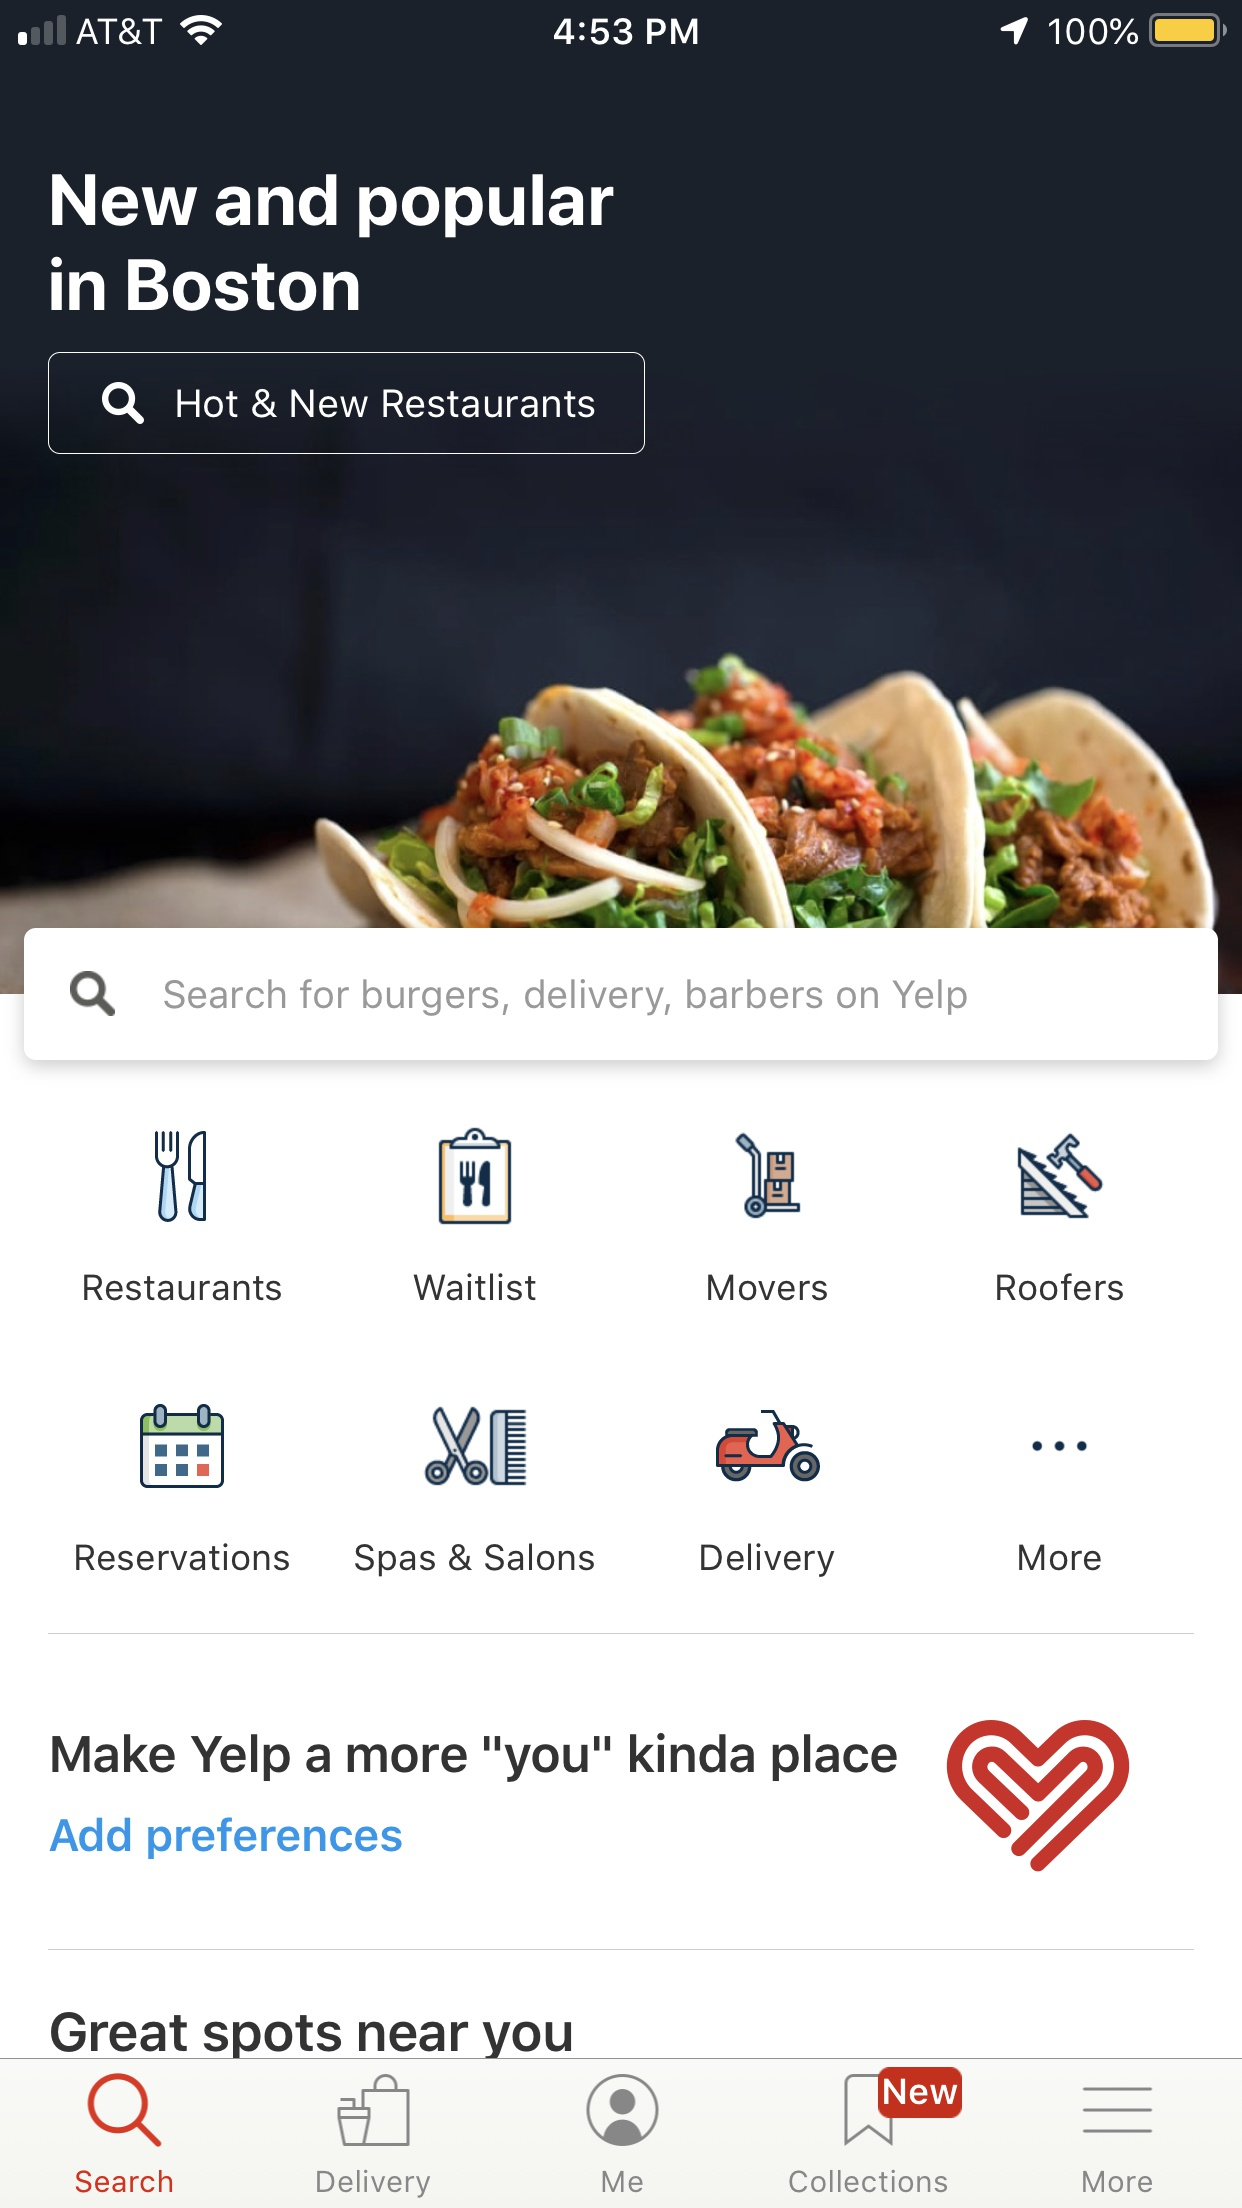EditText: (24, 927, 1219, 1062), (47, 350, 646, 455)
Icon: (843, 2065, 963, 2147), (140, 1403, 226, 1489), (438, 1127, 513, 1225), (86, 2072, 162, 2147), (337, 2073, 412, 2147), (585, 2073, 660, 2146), (1081, 2087, 1153, 2135), (70, 971, 117, 1018), (102, 381, 146, 426), (1033, 1441, 1087, 1453)
Image: (2, 2, 1242, 993), (946, 1720, 1130, 1873), (425, 1404, 528, 1488), (714, 1409, 822, 1485), (1018, 1133, 1104, 1219), (735, 1131, 802, 1219), (153, 1130, 208, 1222)
Text: (50, 171, 616, 312), (52, 1732, 898, 1782), (164, 980, 968, 1018), (52, 2011, 572, 2059), (50, 1817, 403, 1861), (355, 1541, 596, 1579), (76, 1542, 291, 1573), (83, 1274, 282, 1303), (701, 1541, 836, 1579), (789, 2169, 948, 2194), (412, 1271, 538, 1303), (996, 1272, 1124, 1303), (707, 1272, 828, 1303), (317, 2169, 432, 2199), (74, 2169, 174, 2194), (1018, 1544, 1102, 1573), (1081, 2169, 1153, 2193), (601, 2170, 645, 2193)
UpperTaskBar: (2, 2, 1242, 49)
